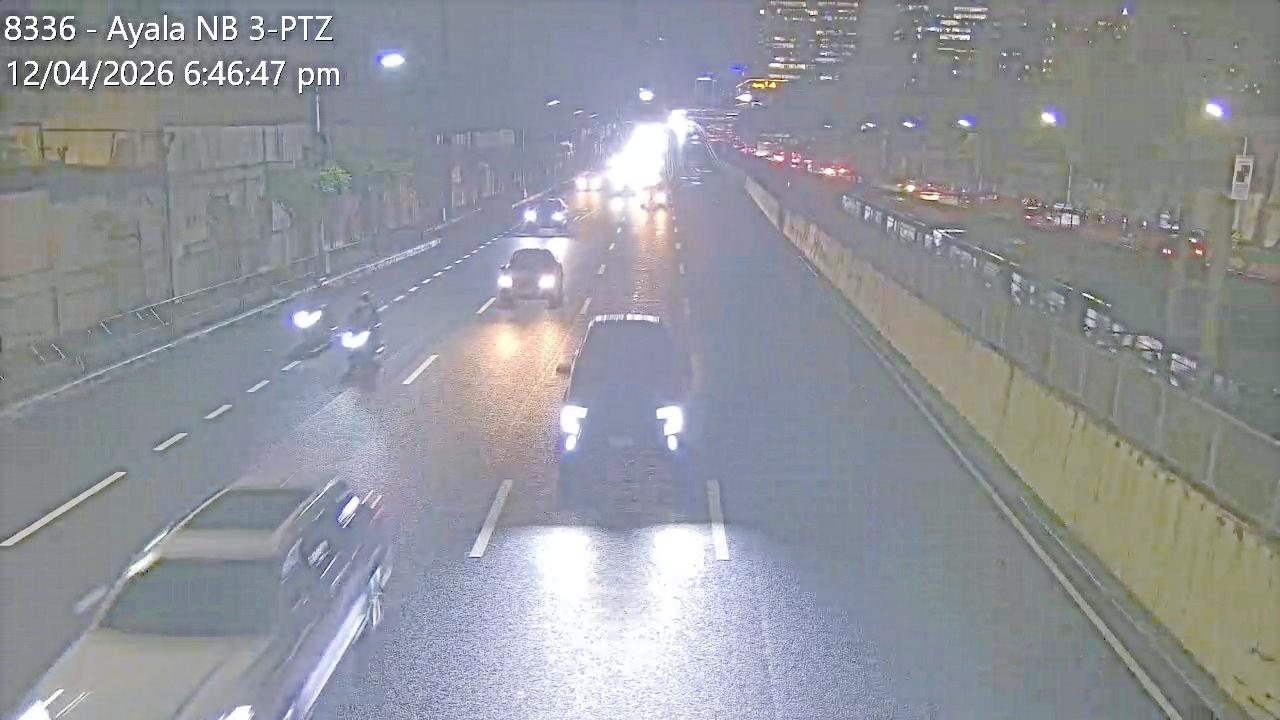Car: (17, 476, 389, 717), (558, 309, 693, 503), (495, 245, 565, 306), (523, 195, 569, 230)
Motor: (292, 282, 336, 364), (341, 322, 385, 388)
Not Accident: (286, 276, 388, 397)
